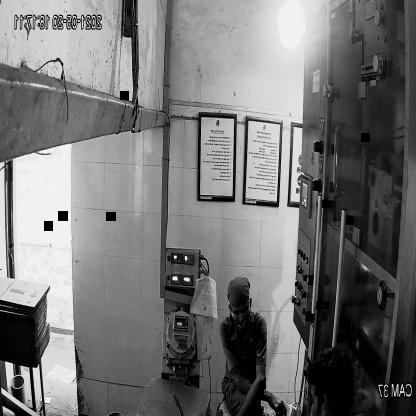goggles: (228, 300, 252, 325)
